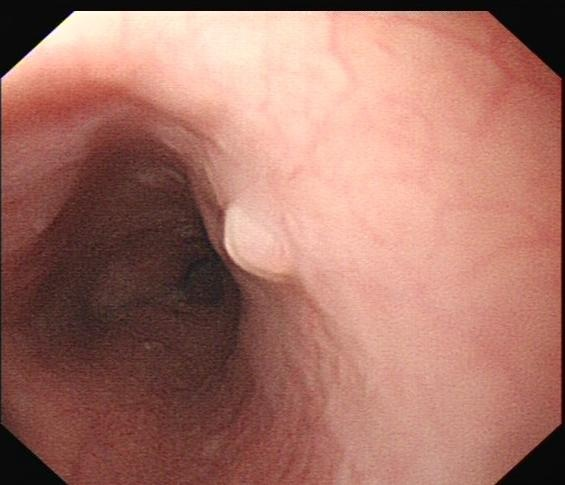Polyp: (208, 186, 323, 295)
